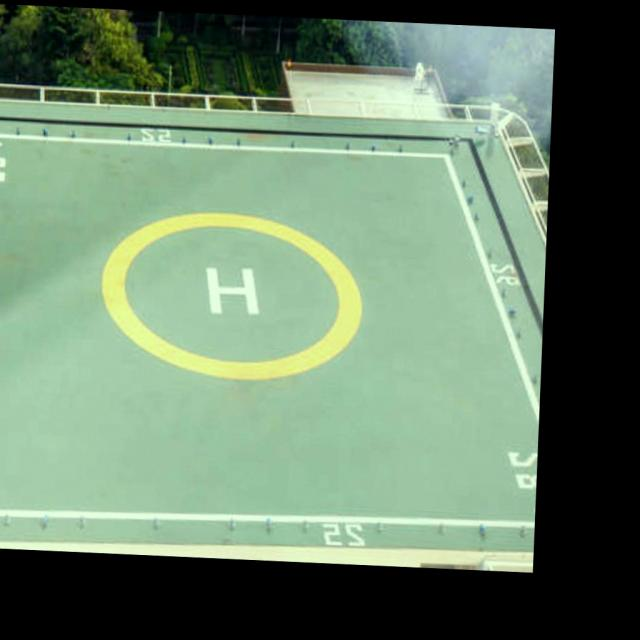helipad: (95, 206, 367, 386)
